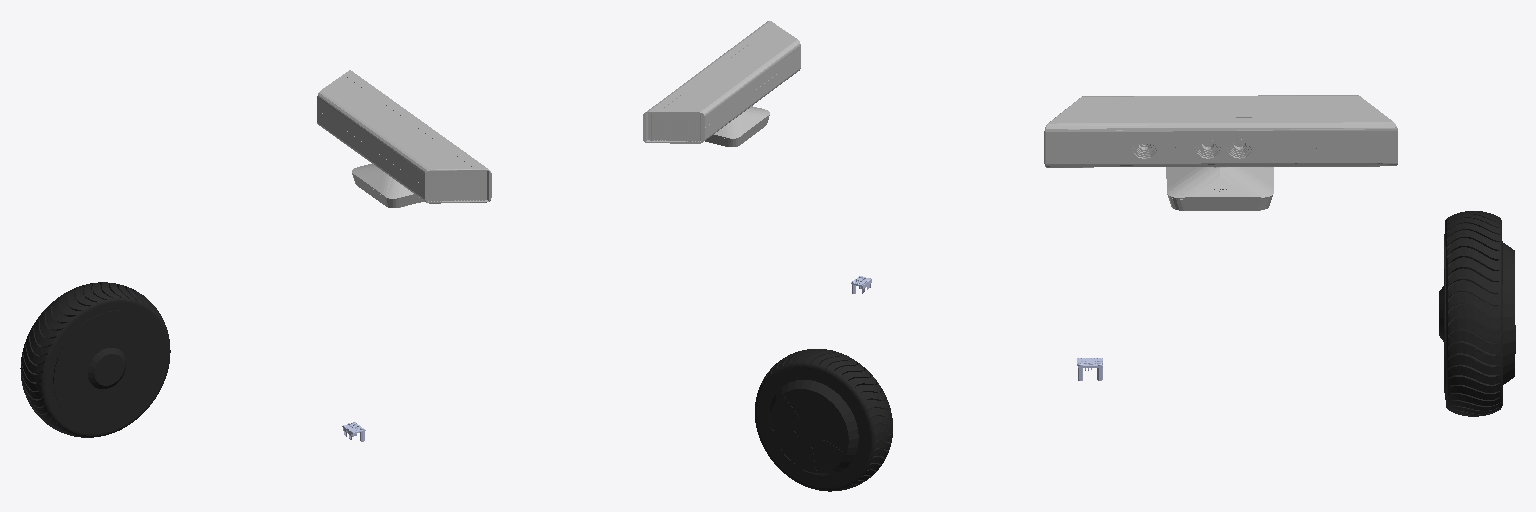
URDF robot description (robot_description_v3):
<?xml version="1.0" encoding="utf-8"?>
<!-- This URDF was automatically created by SolidWorks to URDF Exporter! Originally created by [author] ([email redacted]) 
     Commit Version: 1.6.0-4-g7f85cfe  Build Version: 1.6.7995.38578
     For more information, please see http://wiki.ros.org/sw_urdf_exporter -->
<robot
  name="robot_description_v3">
  <link
    name="base_link">
    <inertial>
      <origin
        xyz="0.0227806917637081 -0.00439476349875706 0.0586045786954241"
        rpy="0 0 0" />
      <mass
        value="9.20179187544468" />
      <inertia
        ixx="0.0310745431127652"
        ixy="-0.000256263088842519"
        ixz="0.000472148054425571"
        iyy="0.0534339074346466"
        iyz="-6.76436725828867E-07"
        izz="0.074195125131693" />
    </inertial>
    <visual>
      <origin
        xyz="0 0 0"
        rpy="0 0 0" />
      <geometry>
        <mesh
          filename="package://robot_description_v3/meshes/base_link.STL" />
      </geometry>
      <material
        name="">
        <color
          rgba="0.752941176470588 0.752941176470588 0.752941176470588 1" />
      </material>
    </visual>
    <collision>
      <origin
        xyz="0 0 0"
        rpy="0 0 0" />
      <geometry>
        <mesh
          filename="package://robot_description_v3/meshes/base_link.STL" />
      </geometry>
    </collision>
  </link>
  <link
    name="lidar_link">
    <inertial>
      <origin
        xyz="0.0148383171348765 0.000447683431151313 -0.0911536208248785"
        rpy="0 0 0" />
      <mass
        value="0.0312409127404853" />
      <inertia
        ixx="8.88026370808507E-06"
        ixy="-1.77664494264075E-07"
        ixz="1.13027679908936E-07"
        iyy="1.4491001820374E-05"
        iyz="3.46076114958862E-08"
        izz="2.25289099518331E-05" />
    </inertial>
    <visual>
      <origin
        xyz="0 0 0"
        rpy="0 0 0" />
      <geometry>
        <mesh
          filename="package://robot_description_v3/meshes/lidar_link.STL" />
      </geometry>
      <material
        name="">
        <color
          rgba="0.792156862745098 0.819607843137255 0.933333333333333 1" />
      </material>
    </visual>
    <collision>
      <origin
        xyz="0 0 0"
        rpy="0 0 0" />
      <geometry>
        <mesh
          filename="package://robot_description_v3/meshes/lidar_link.STL" />
      </geometry>
    </collision>
  </link>
  <joint
    name="lidar"
    type="fixed">
    <origin
      xyz="0.155666725645511 0.00112777065618036 0.216100000004219"
      rpy="0 0 0" />
    <parent
      link="base_link" />
    <child
      link="lidar_link" />
    <axis
      xyz="0 0 0" />
  </joint>
  <link
    name="imu_link">
    <inertial>
      <origin
        xyz="-0.000128980117747868 -0.000191495597993335 -0.00384070509348688"
        rpy="0 0 0" />
      <mass
        value="0.000999898118986841" />
      <inertia
        ixx="2.50447716935416E-08"
        ixy="1.0396505624692E-10"
        ixz="-2.68560481634615E-14"
        iyy="1.24513535508531E-08"
        iyz="-1.18565423488172E-14"
        izz="3.06376353115898E-08" />
    </inertial>
    <visual>
      <origin
        xyz="0 0 0"
        rpy="0 0 0" />
      <geometry>
        <mesh
          filename="package://robot_description_v3/meshes/imu_link.STL" />
      </geometry>
      <material
        name="">
        <color
          rgba="0.792156862745098 0.819607843137255 0.933333333333333 1" />
      </material>
    </visual>
    <collision>
      <origin
        xyz="0 0 0"
        rpy="0 0 0" />
      <geometry>
        <mesh
          filename="package://robot_description_v3/meshes/imu_link.STL" />
      </geometry>
    </collision>
  </link>
  <joint
    name="imu"
    type="fixed">
    <origin
      xyz="0.126428933055049 -0.100523077234269 0.0330200000034927"
      rpy="0 0 0" />
    <parent
      link="base_link" />
    <child
      link="imu_link" />
    <axis
      xyz="0 0 0" />
  </joint>
  <link
    name="right_wheel_link">
    <inertial>
      <origin
        xyz="0.000243587829777736 -0.0295000990455644 8.01158028806981E-11"
        rpy="0 0 0" />
      <mass
        value="0.981706650902442" />
      <inertia
        ixx="0.00165298875829608"
        ixy="-1.01208993064455E-05"
        ixz="-1.81686206584513E-09"
        iyy="0.00287861061005824"
        iyz="-1.35675306260573E-11"
        izz="0.00165291235980834" />
    </inertial>
    <visual>
      <origin
        xyz="0 0 0"
        rpy="0 0 0" />
      <geometry>
        <mesh
          filename="package://robot_description_v3/meshes/right_wheel_link.STL" />
      </geometry>
      <material
        name="">
        <color
          rgba="0.2 0.2 0.2 1" />
      </material>
    </visual>
    <collision>
      <origin
        xyz="0 0 0"
        rpy="0 0 0" />
      <geometry>
        <mesh
          filename="package://robot_description_v3/meshes/right_wheel_link.STL" />
      </geometry>
    </collision>
  </link>
  <joint
    name="right_wheel"
    type="continuous">
    <origin
      xyz="0.00157556970077088 -0.175020257687692 0.0150000000042174"
      rpy="0 0 0" />
    <parent
      link="base_link" />
    <child
      link="right_wheel_link" />
    <axis
      xyz="-0.00825691107326283 0.999965911128739 0" />
  </joint>
  <link
    name="left_wheel_link">
    <inertial>
      <origin
        xyz="-0.000243587829778624 0.0295000990455639 8.01149702134296E-11"
        rpy="0 0 0" />
      <mass
        value="0.981706650902443" />
      <inertia
        ixx="0.00165299120834847"
        ixy="-1.01249109871006E-05"
        ixz="-1.44984115093218E-08"
        iyy="0.00287861950901393"
        iyz="7.25004217168263E-11"
        izz="0.00165291988234476" />
    </inertial>
    <visual>
      <origin
        xyz="0 0 0"
        rpy="0 0 0" />
      <geometry>
        <mesh
          filename="package://robot_description_v3/meshes/left_wheel_link.STL" />
      </geometry>
      <material
        name="">
        <color
          rgba="0.2 0.2 0.2 1" />
      </material>
    </visual>
    <collision>
      <origin
        xyz="0 0 0"
        rpy="0 0 0" />
      <geometry>
        <mesh
          filename="package://robot_description_v3/meshes/left_wheel_link.STL" />
      </geometry>
    </collision>
  </link>
  <joint
    name="left_wheel"
    type="continuous">
    <origin
      xyz="-0.00131434917487327 0.174967811207364 0.0150000000042175"
      rpy="0 0 0" />
    <parent
      link="base_link" />
    <child
      link="left_wheel_link" />
    <axis
      xyz="0.00825691107326281 -0.999965911128739 0" />
  </joint>
  <link
    name="camera_link">
    <inertial>
      <origin
        xyz="-0.0286974043856941 -0.00315323141543045 -0.00696427170361802"
        rpy="0 0 0" />
      <mass
        value="0.646454884722171" />
      <inertia
        ixx="0.0028423827313704"
        ixy="1.87273045722636E-05"
        ixz="1.48075090936103E-07"
        iyy="0.000263758634244186"
        iyz="-3.33736128214585E-08"
        izz="0.00296274058967308" />
    </inertial>
    <visual>
      <origin
        xyz="0 0 0"
        rpy="0 0 0" />
      <geometry>
        <mesh
          filename="package://robot_description_v3/meshes/camera_link.STL" />
      </geometry>
      <material
        name="">
        <color
          rgba="0.752941176470588 0.752941176470588 0.752941176470588 1" />
      </material>
    </visual>
    <collision>
      <origin
        xyz="0 0 0"
        rpy="0 0 0" />
      <geometry>
        <mesh
          filename="package://robot_description_v3/meshes/camera_link.STL" />
      </geometry>
    </collision>
  </link>
  <joint
    name="cam"
    type="fixed">
    <origin
      xyz="0.26495 0.0053582 0.28443"
      rpy="0 0 0" />
    <parent
      link="base_link" />
    <child
      link="camera_link" />
    <axis
      xyz="0 0 0" />
  </joint>
</robot>

--- Facts derived from the render (not from the file) ---
Views: 3 orthographic renders of the robot side by side, from view 1: azimuth 30°, elevation 25°; view 2: azimuth 150°, elevation 25°; view 3: azimuth 270°, elevation 25°.
Robot: robot_description_v3 — 6 links, 5 joints (2 continuous, 3 fixed); root link base_link; default pose: all joints at 0.
Visible links, largest first — view 1: left_wheel_link, camera_link; view 2: left_wheel_link, camera_link; view 3: camera_link, left_wheel_link.
Link boxes in pixels (x1,y1,x2,y2): left_wheel_link: [20, 282, 170, 437]; camera_link: [317, 70, 491, 207]; left_wheel_link: [755, 349, 892, 491]; camera_link: [643, 21, 800, 146]; camera_link: [1044, 95, 1397, 210]; left_wheel_link: [1439, 211, 1515, 416].
Size in the robot's own frame: 0.3557 by 0.3724 by 0.3699 metres.
Meshes: 6 distinct files referenced, 3 mesh visuals loaded (3 binary STL); not drawn: 3 (reference not matched to a file when rendering).